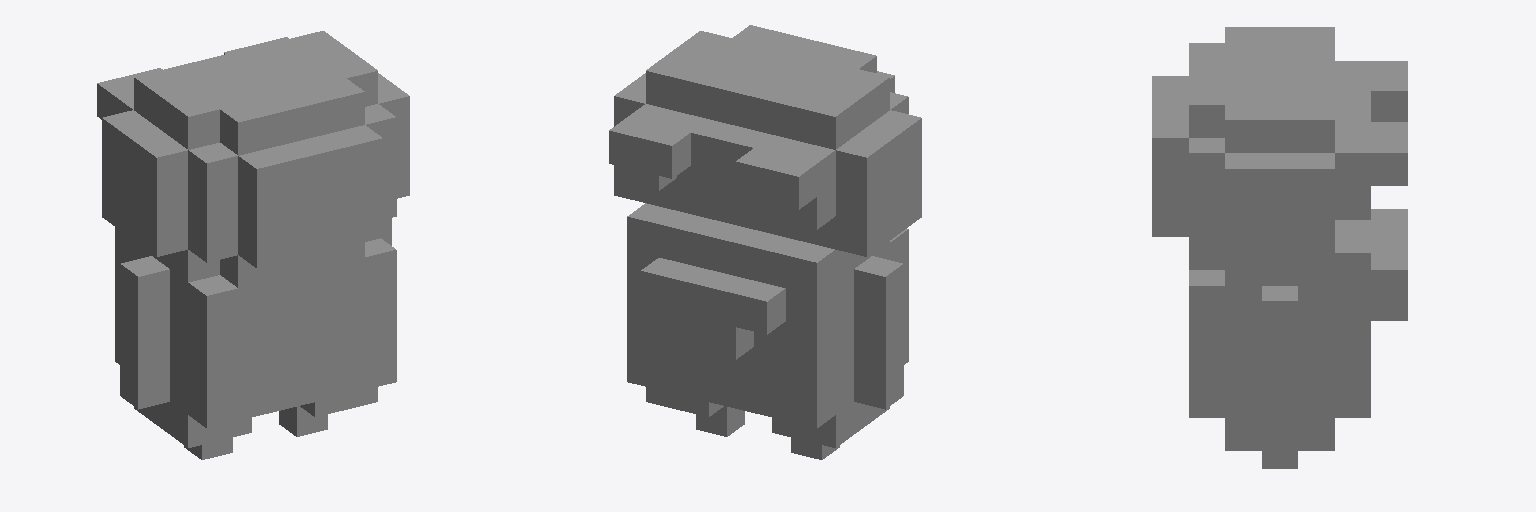
Rendered from beardie.obj.
The picture shows the model from 3 angles: view 1: azimuth 30°, elevation 25°; view 2: azimuth 150°, elevation 25°; view 3: azimuth 270°, elevation 25°; orthographic projection.
Parts seen in each view (by area): view 1: chr_beardo1_Plane-tex; view 2: chr_beardo1_Plane-tex; view 3: chr_beardo1_Plane-tex.
Part boxes in pixels (left/top/right/bottom): chr_beardo1_Plane-tex: left=97, top=31, right=409, bottom=459; chr_beardo1_Plane-tex: left=609, top=25, right=921, bottom=459; chr_beardo1_Plane-tex: left=1152, top=27, right=1407, bottom=468.
Size of the model in its own units: 0.8 by 1.1 by 0.7.